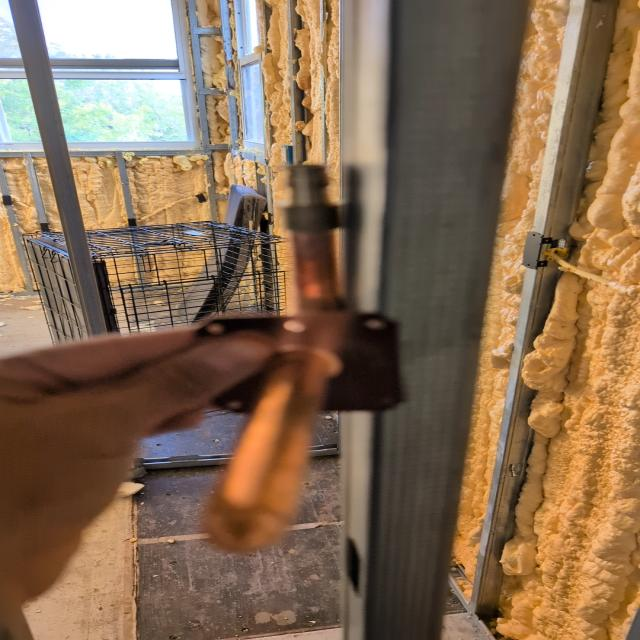wall_flange: (191, 157, 408, 579)
